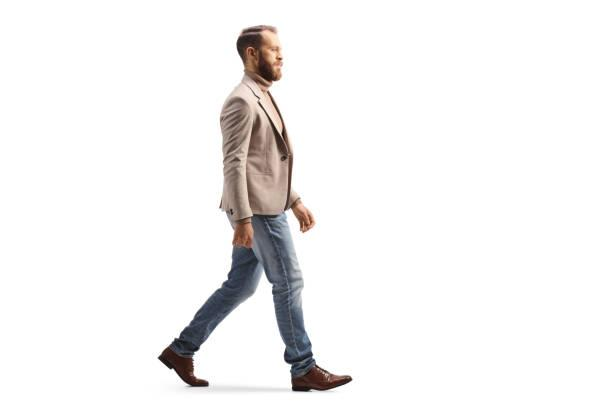jacket: (216, 72, 303, 223)
trousers: (167, 204, 318, 379)
